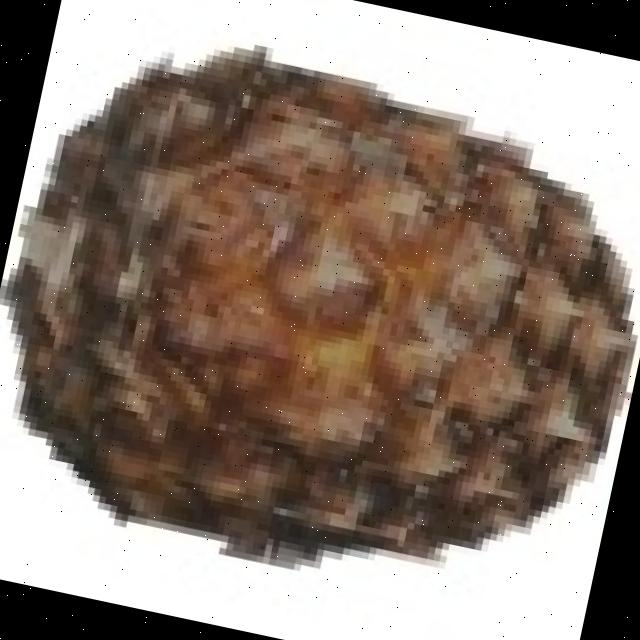pineapple: (28, 43, 640, 548)
